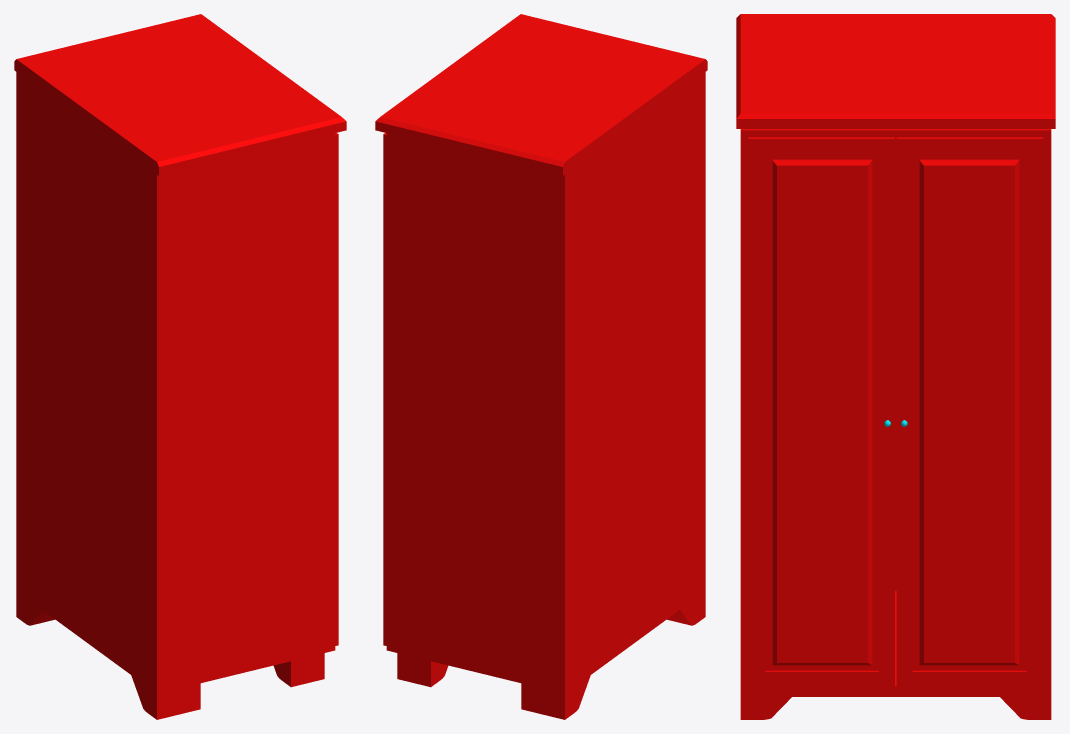
Rendered from wardrobe.fbx.
3 views of the same model, side by side, from view 1: azimuth 30°, elevation 25°; view 2: azimuth 150°, elevation 25°; view 3: azimuth 270°, elevation 25° (orthographic). The views are drawn at different scales.
Visible parts, largest first — view 1: polySurface787; view 2: polySurface787; view 3: polySurface787.
Boxes of the visible parts, x1,y1,x2,y2 form: polySurface787: (14,14,346,719); polySurface787: (375,14,707,719); polySurface787: (736,14,1055,719).
Bounding box in the file's own units: 59.4 × 165 × 77.58.
